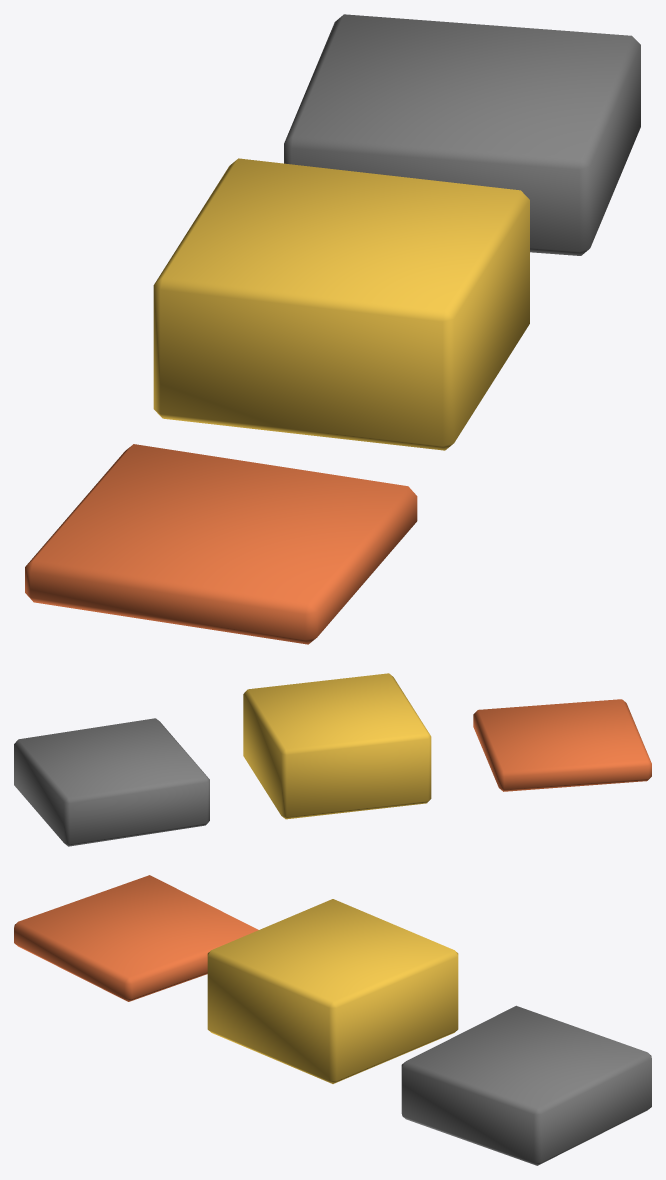
File: Podium.glb
3 renders of one model, top to bottom at view 1: azimuth 30°, elevation 25°; view 2: azimuth 150°, elevation 25°; view 3: azimuth 270°, elevation 25°, orthographic. The views are drawn at different scales.
Visible parts, largest first — view 1: Podiums; view 2: Podiums; view 3: Podiums.
Boxes of the visible parts, box(x1,y1,x2,y2) form: Podiums: box(25, 14, 640, 644); Podiums: box(14, 673, 651, 846); Podiums: box(14, 875, 651, 1165).
Size of what is drawn, in the model's own units: 5.24 by 0.75 by 5.24.
1 material, 1 textured.
